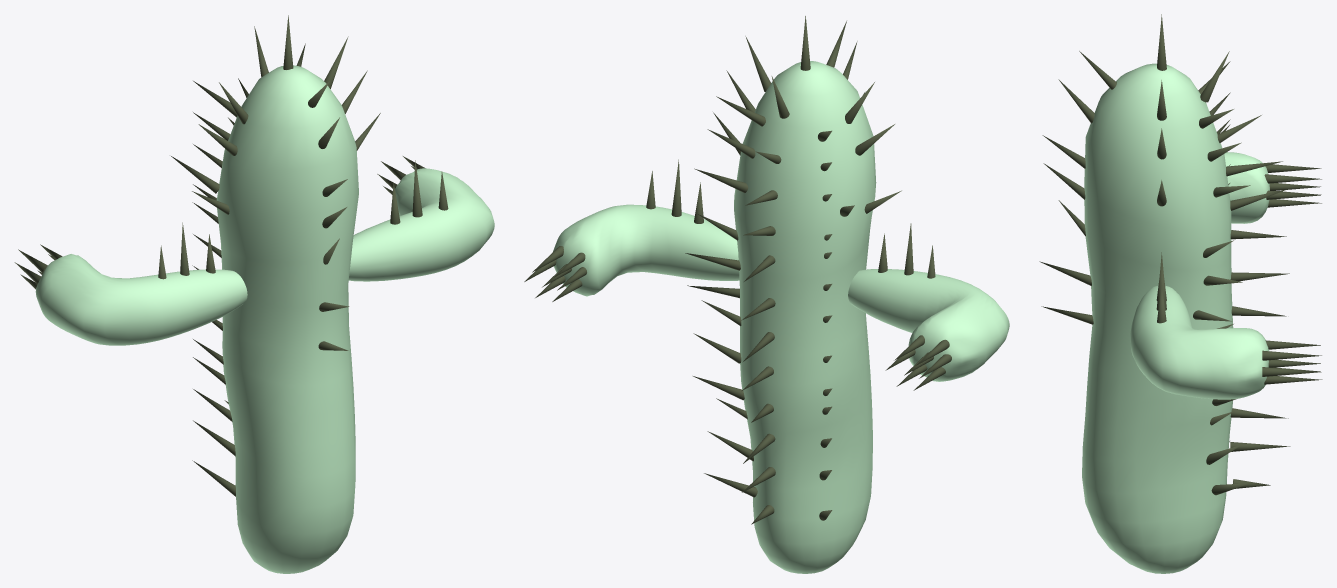
File: Cactus Assets.fbx
3 views of the same model, side by side, from view 1: azimuth 30°, elevation 25°; view 2: azimuth 150°, elevation 25°; view 3: azimuth 270°, elevation 25° (orthographic).
Parts seen in each view (by area): view 1: pSphere1, pSphere3, pSphere2; view 2: pSphere1, pSphere2, pSphere3; view 3: pSphere1, pSphere2, pSphere3.
Part boxes in pixels (x1=…): pSphere1: x1=216, y1=65, x2=358, y2=573; pSphere3: x1=35, y1=254, x2=247, y2=345; pSphere2: x1=348, y1=168, x2=494, y2=281; pSphere1: x1=734, y1=61, x2=876, y2=573; pSphere2: x1=553, y1=204, x2=739, y2=296; pSphere3: x1=848, y1=269, x2=1009, y2=381; pSphere1: x1=1082, y1=63, x2=1233, y2=573; pSphere2: x1=1130, y1=286, x2=1269, y2=399; pSphere3: x1=1224, y1=152, x2=1269, y2=223.
Size of the model in its own units: 9.55 by 11.8 by 5.48.
